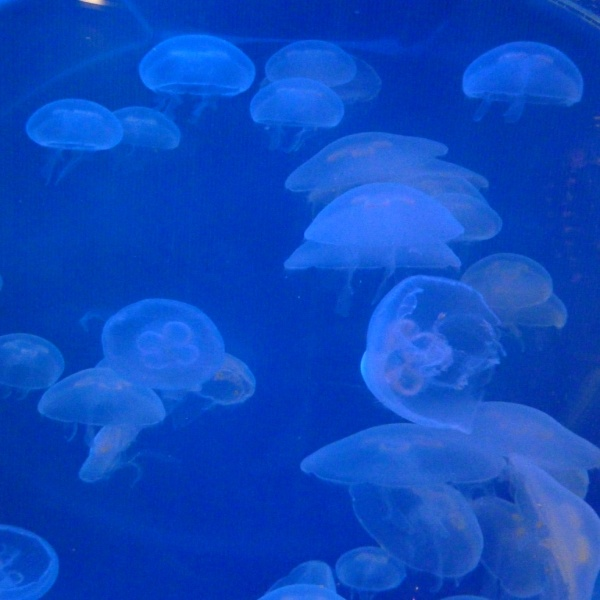Jellyfish: (256, 127, 599, 599), (1, 294, 258, 480), (139, 34, 256, 131), (456, 38, 586, 125), (23, 96, 120, 185), (247, 74, 340, 154), (263, 40, 355, 86), (0, 529, 59, 598), (111, 108, 177, 160), (327, 57, 378, 105)
